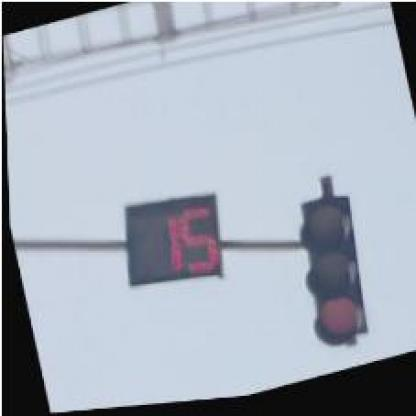red: (286, 194, 377, 356)
